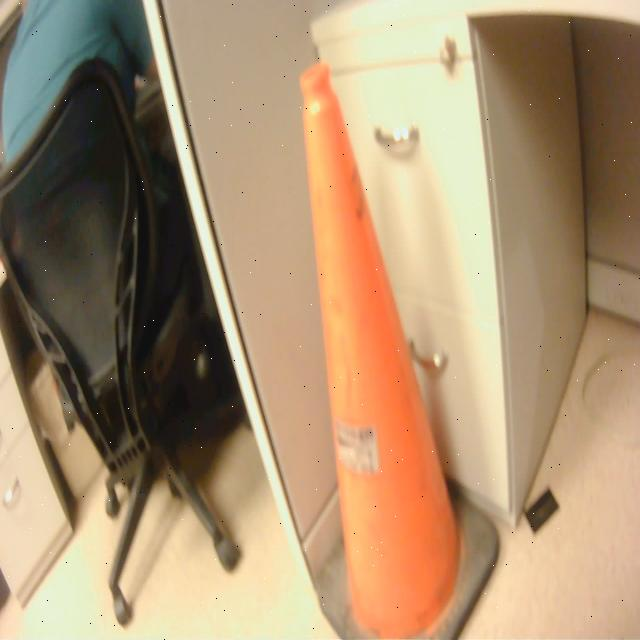traffic cone: (294, 53, 505, 640)
